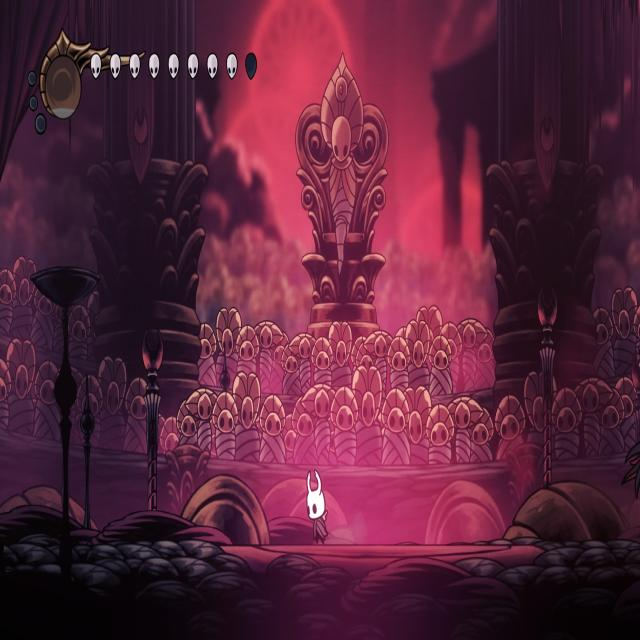Player: (305, 466, 331, 546)
